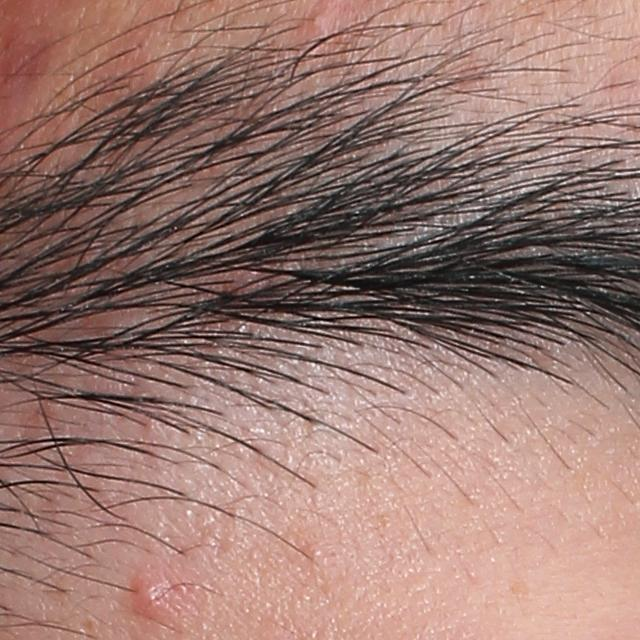papule: (127, 573, 172, 614), (307, 10, 330, 33)
